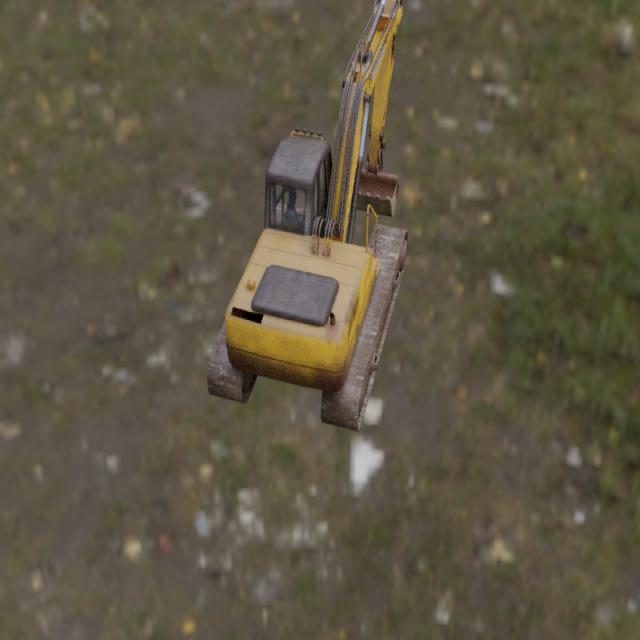excavator: (206, 0, 408, 433)
